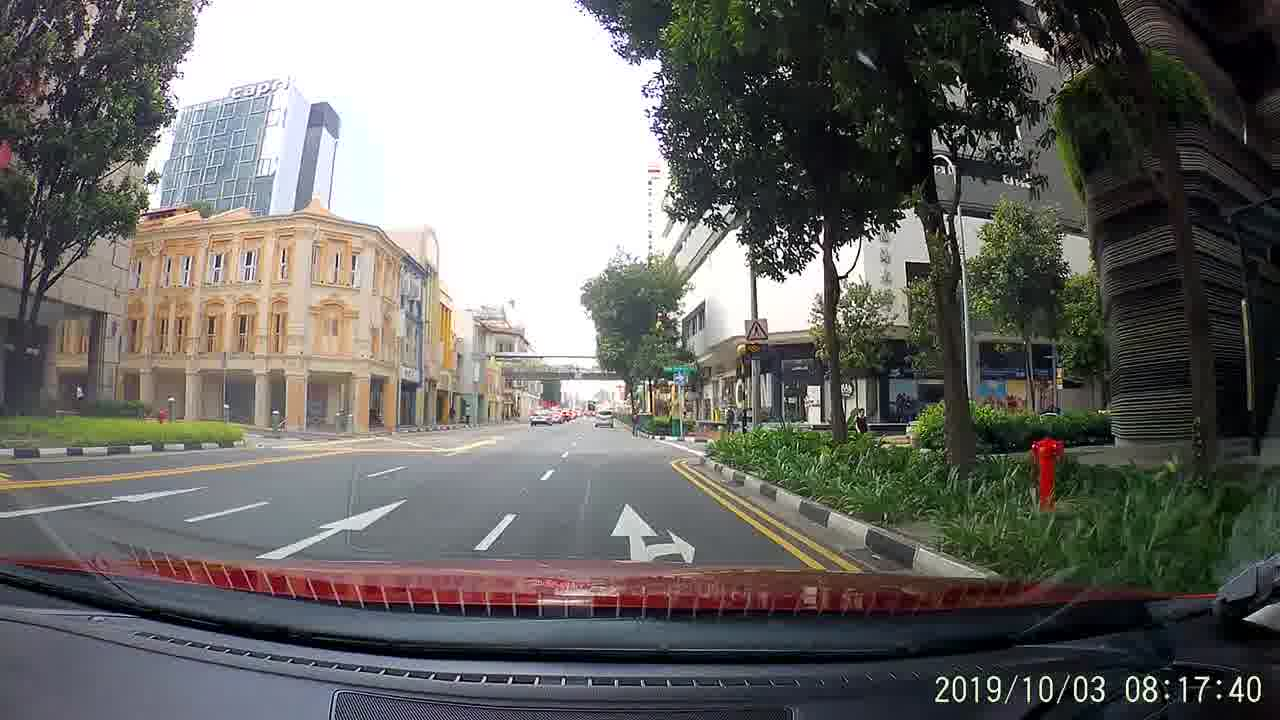car: (529, 406, 553, 429), (592, 407, 616, 428)
